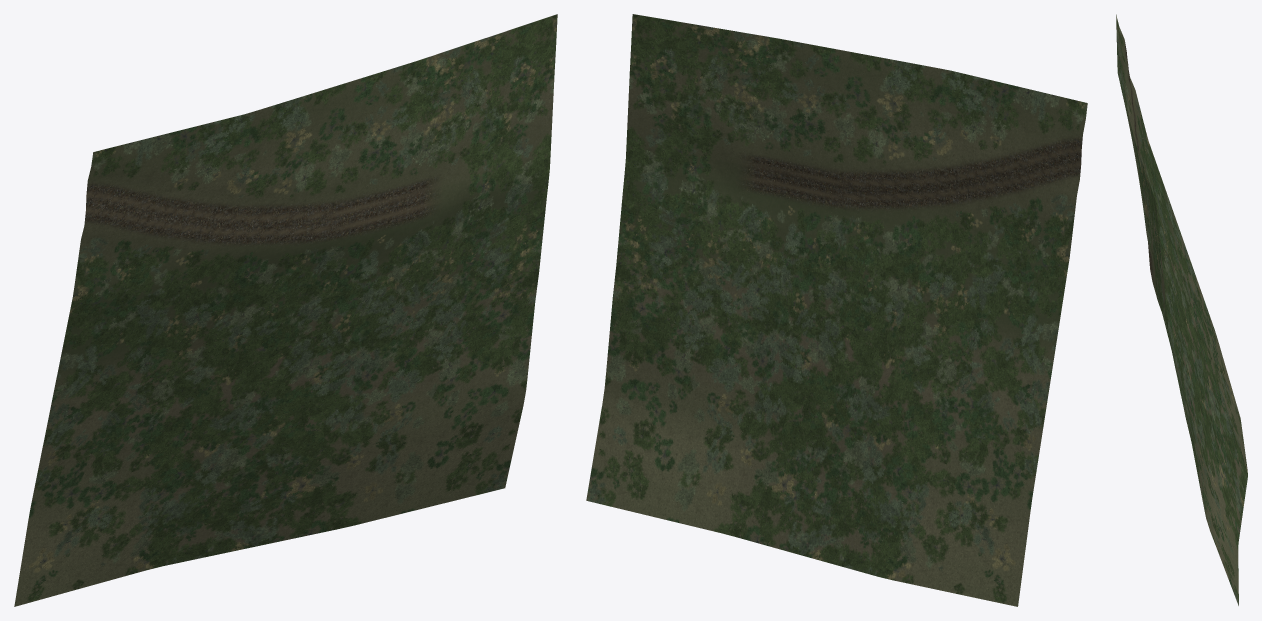
The model's file is terrain_near_07_03.obj.
The picture shows the model from 3 angles, left to right: view 1: azimuth 30°, elevation 25°; view 2: azimuth 150°, elevation 25°; view 3: azimuth 270°, elevation 25°; orthographic projection. The views are drawn at different scales.
Parts seen in each view (by area): view 1: terrain_near_07_03; view 2: terrain_near_07_03; view 3: terrain_near_07_03.
Part boxes in pixels (x1,y1,x2,y2): terrain_near_07_03: (14,14,557,606); terrain_near_07_03: (586,14,1087,606); terrain_near_07_03: (1116,14,1247,605).
Size of the model in its own units: 64 by 64 by 18.9.
Materials: 1 (1 with a texture image).
